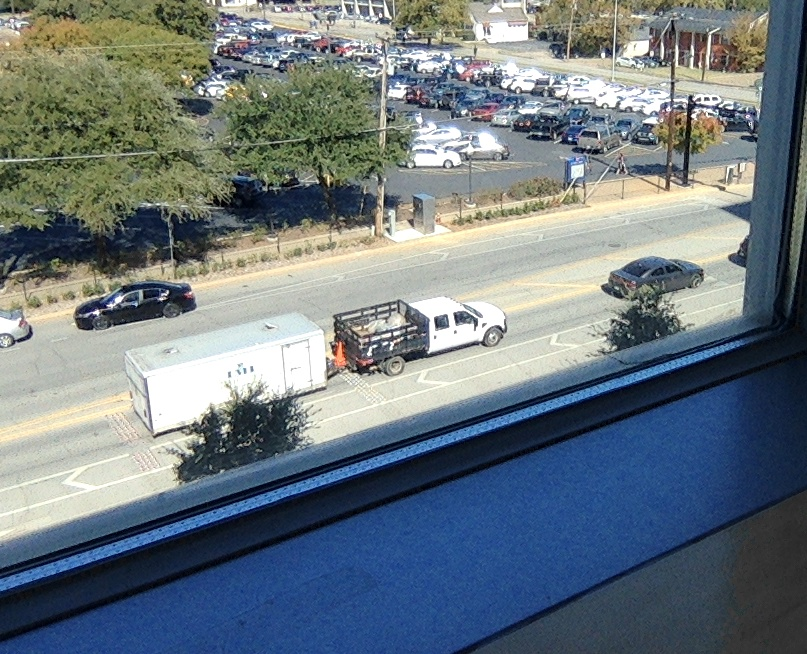car: (300, 300, 507, 390)
